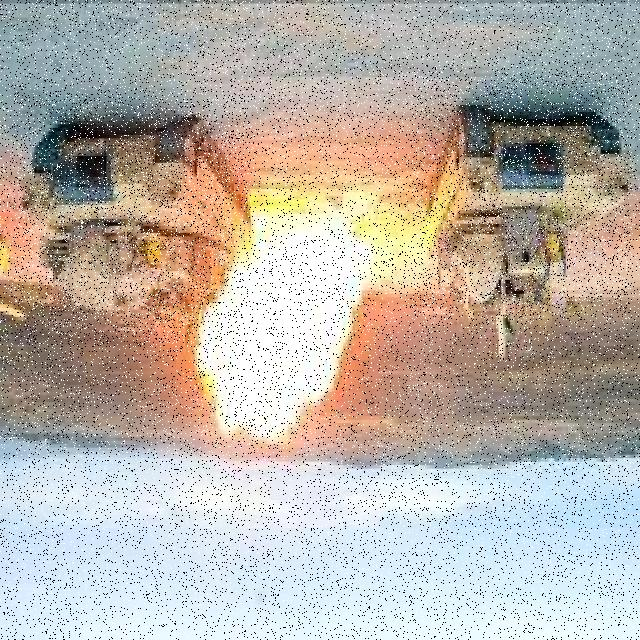MIL_MBT: (14, 93, 251, 346), (412, 72, 631, 320)
